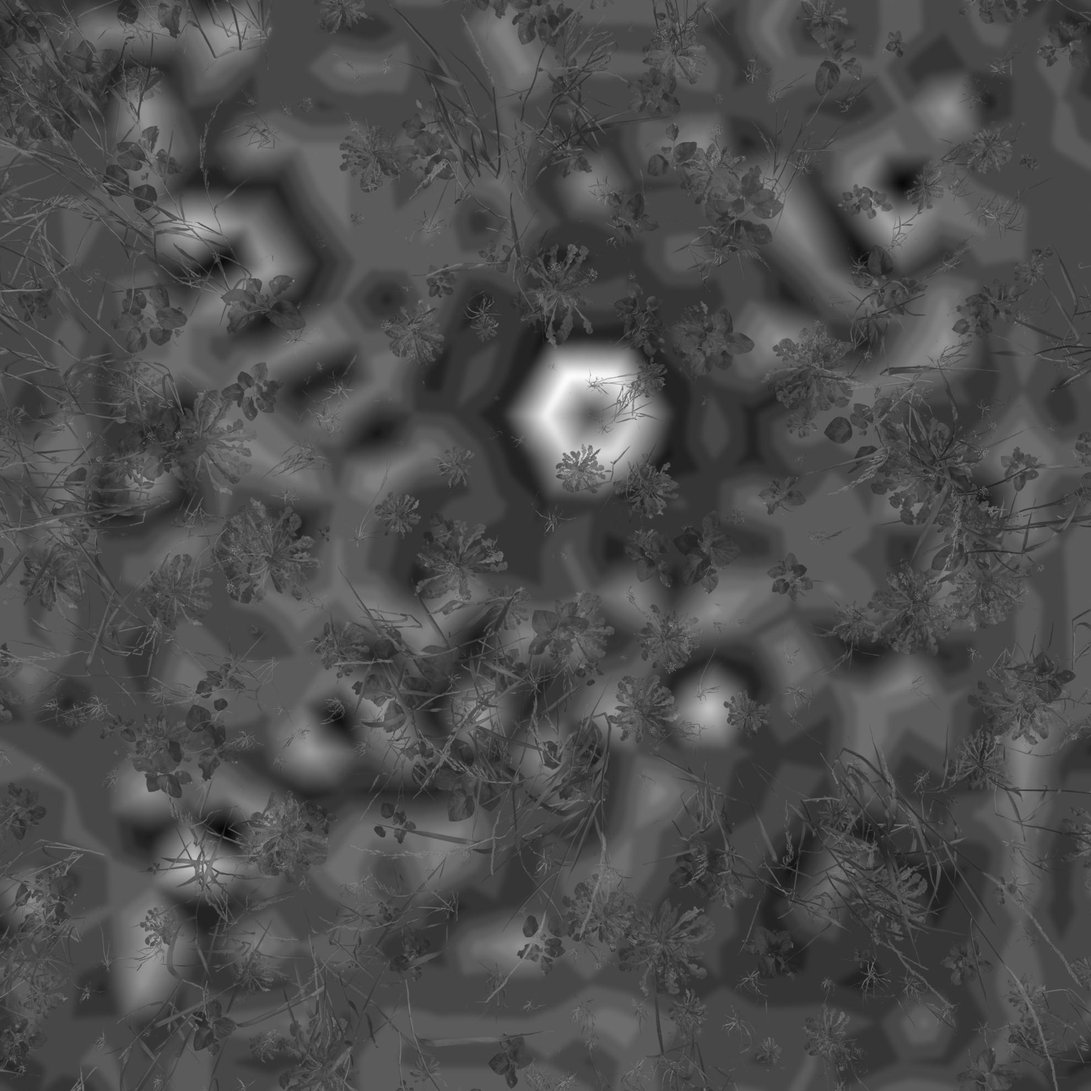landmine: (511, 333, 658, 491), (782, 840, 897, 965)
